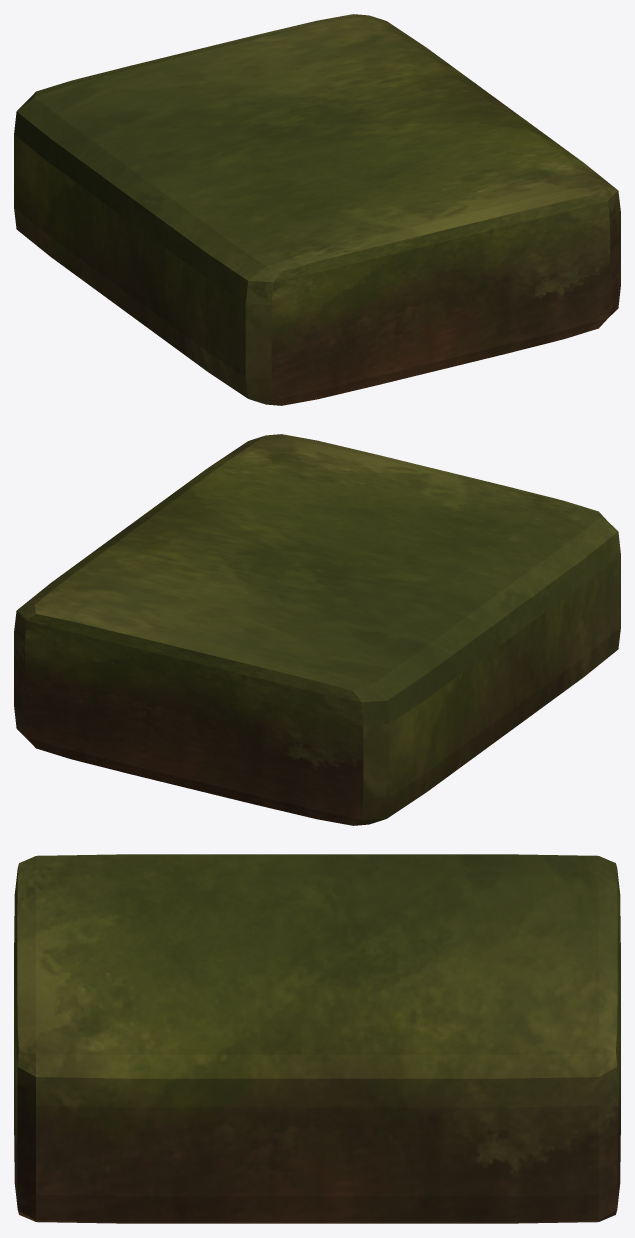
File: F_Platform_4.fbx
The picture shows the model from 3 angles, top to bottom: view 1: azimuth 30°, elevation 25°; view 2: azimuth 150°, elevation 25°; view 3: azimuth 270°, elevation 25°; orthographic projection. The views are drawn at different scales.
Parts seen in each view (by area): view 1: F_Platform_4; view 2: F_Platform_4; view 3: F_Platform_4.
Part boxes in pixels (x1,y1,x2,y2): F_Platform_4: (14,14,620,405); F_Platform_4: (14,434,620,825); F_Platform_4: (14,854,620,1223).
Bounding box in the file's own units: 4.22 × 1.37 × 3.71.
Materials: 1 (1 with a texture image).
